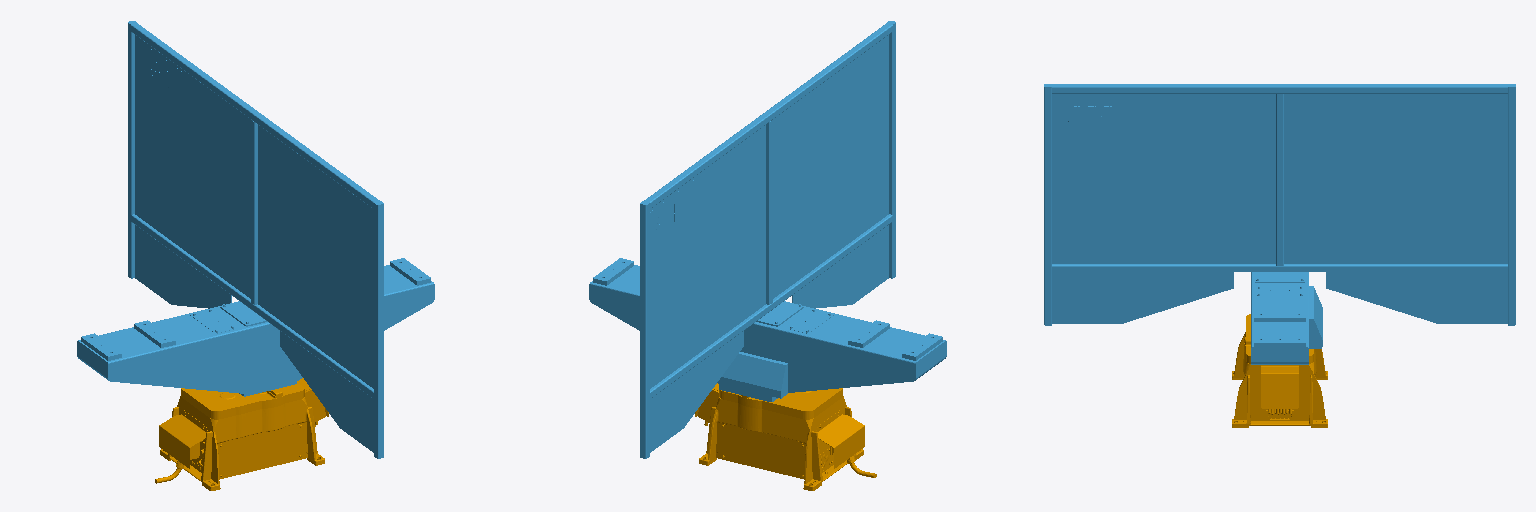
URDF robot description (Irbpc_500_IRC5_rev02_CAD):
<?xml version="1.0" ?>
<robot name="Irbpc_500_IRC5_rev02_CAD">

<link name="base_link">
  <inertial>
    <origin xyz="0.8110503260514997 -0.0004266987797697023 0.19724245166328738" rpy="0 0 0"/>
    <mass value="614.1963825537839"/>
    <inertia ixx="13.487507" iyy="26.109456" izz="25.519483" ixy="-0.0812" iyz="-0.009251" ixz="-0.682489"/>
  </inertial>
  <visual>
    <origin xyz="0 0 0" rpy="0 0 0"/>
    <geometry>
      <mesh filename="meshes/base_link.stl" scale="0.001 0.001 0.001"/>
    </geometry>
  </visual>
  <collision>
    <origin xyz="0 0 0" rpy="0 0 0"/>
    <geometry>
      <mesh filename="meshes/base_link.stl" scale="0.001 0.001 0.001"/>
    </geometry>
  </collision>
</link>

<link name="Irbpc_500_IRC5_rev02_Arm500C_CAD_1">
  <inertial>
    <origin xyz="-1.49132954874176e-08 0.004791821847841117 0.2910400510482473" rpy="0 0 0"/>
    <mass value="1265.786054417684"/>
    <inertia ixx="186.907427" iyy="307.58885" izz="326.952744" ixy="0.000779" iyz="1.273282" ixz="1e-06"/>
  </inertial>
  <visual>
    <origin xyz="-0.8725 -0.0 -0.414" rpy="0 0 0"/>
    <geometry>
      <mesh filename="meshes/Irbpc_500_IRC5_rev02_Arm500C_CAD_1.stl" scale="0.001 0.001 0.001"/>
    </geometry>
  </visual>
  <collision>
    <origin xyz="-0.8725 -0.0 -0.414" rpy="0 0 0"/>
    <geometry>
      <mesh filename="meshes/Irbpc_500_IRC5_rev02_Arm500C_CAD_1.stl" scale="0.001 0.001 0.001"/>
    </geometry>
  </collision>
</link>

<joint name="j1" type="continuous">
  <origin xyz="0.8725 0.0 0.414" rpy="0 0 0"/>
  <parent link="base_link"/>
  <child link="Irbpc_500_IRC5_rev02_Arm500C_CAD_1"/>
  <axis xyz="0.0 0.0 1.0"/>
</joint>

</robot>

--- Render facts (derived) ---
Views: 3 orthographic renders of the robot side by side, from view 1: azimuth 30°, elevation 25°; view 2: azimuth 150°, elevation 25°; view 3: azimuth 270°, elevation 25°.
Model Irbpc_500_IRC5_rev02_CAD with 2 links and 1 joints (1 continuous), rooted at base_link, posed all joints at 0.
Visible links, largest first — view 1: Irbpc_500_IRC5_rev02_Arm500C_CAD_1, base_link; view 2: Irbpc_500_IRC5_rev02_Arm500C_CAD_1, base_link; view 3: Irbpc_500_IRC5_rev02_Arm500C_CAD_1, base_link.
Boxes of the visible links, x1=… form: Irbpc_500_IRC5_rev02_Arm500C_CAD_1: x1=77, y1=21, x2=434, y2=458; base_link: x1=155, y1=378, x2=328, y2=490; Irbpc_500_IRC5_rev02_Arm500C_CAD_1: x1=589, y1=21, x2=946, y2=458; base_link: x1=695, y1=383, x2=876, y2=490; Irbpc_500_IRC5_rev02_Arm500C_CAD_1: x1=1044, y1=84, x2=1515, y2=364; base_link: x1=1232, y1=314, x2=1327, y2=427.
Size in the robot's own frame: 1.84 by 2.45 by 1.85 metres.
Meshes: 2 distinct files referenced, 2 mesh visuals loaded (2 binary STL).